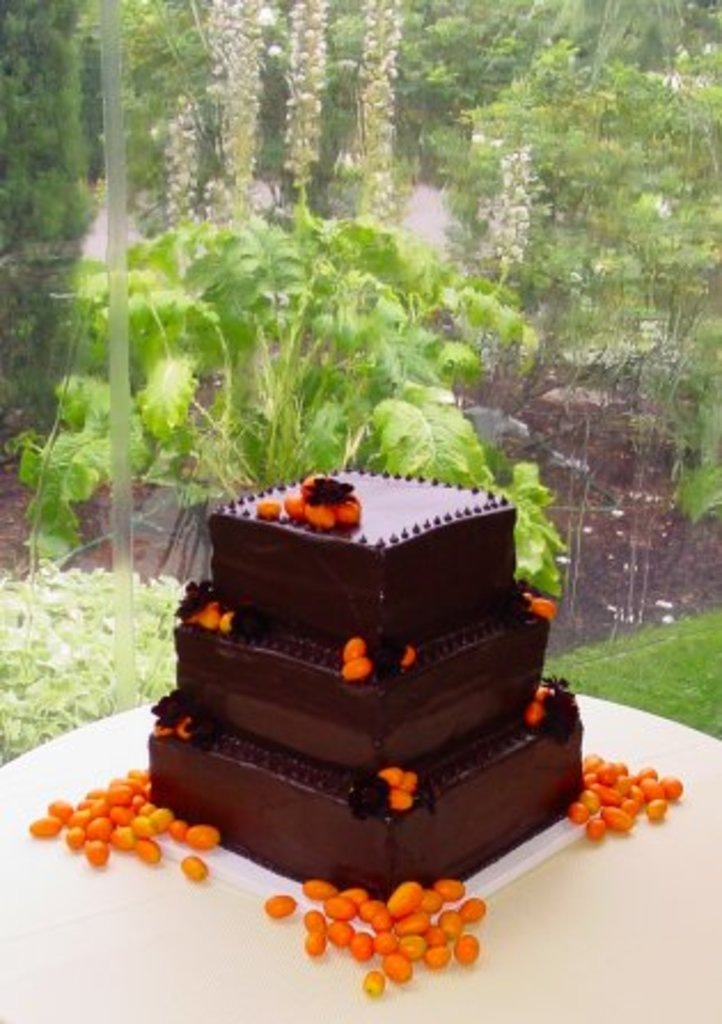cake: (147, 467, 580, 903)
